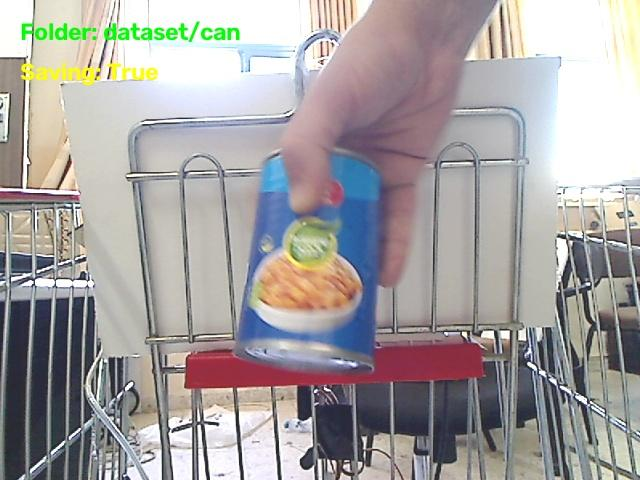can: (234, 149, 380, 372)
